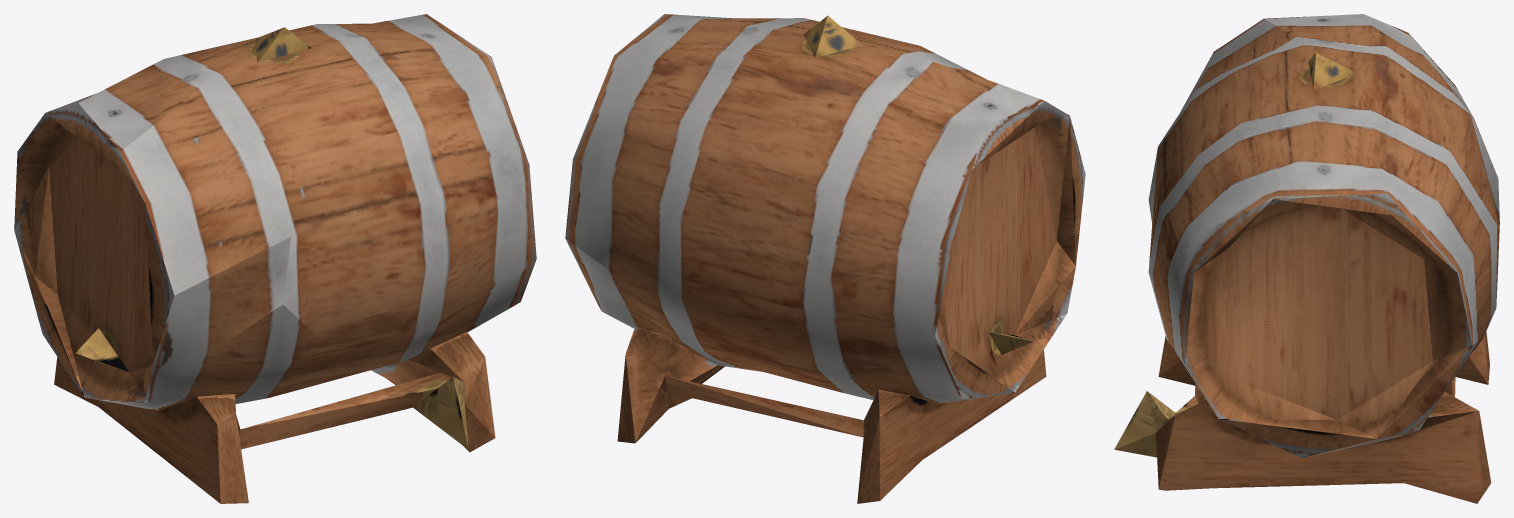
The model's file is keg_lod0.glb.
3 views of the same model, side by side, from view 1: azimuth 30°, elevation 25°; view 2: azimuth 150°, elevation 25°; view 3: azimuth 270°, elevation 25° (orthographic). The views are drawn at different scales.
Visible parts, largest first — view 1: low; view 2: low; view 3: low.
Boxes of the visible parts, x1=… form: low: x1=14, y1=14, x2=536, y2=503; low: x1=565, y1=14, x2=1085, y2=503; low: x1=1114, y1=14, x2=1499, y2=503.
Size of the model in its own units: 0.6843 by 0.664 by 0.593.
Materials: 1 (1 with a texture image).
